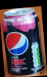pepsi: (3, 8, 45, 75)
